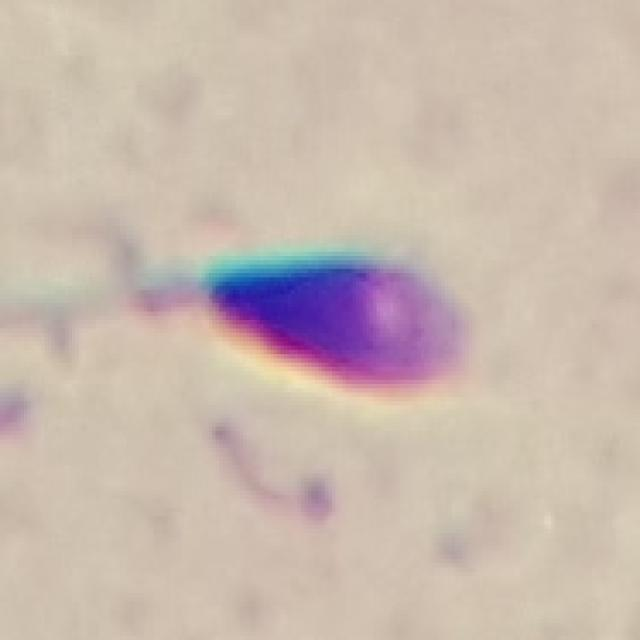abnormal sperm: (14, 244, 490, 416)
